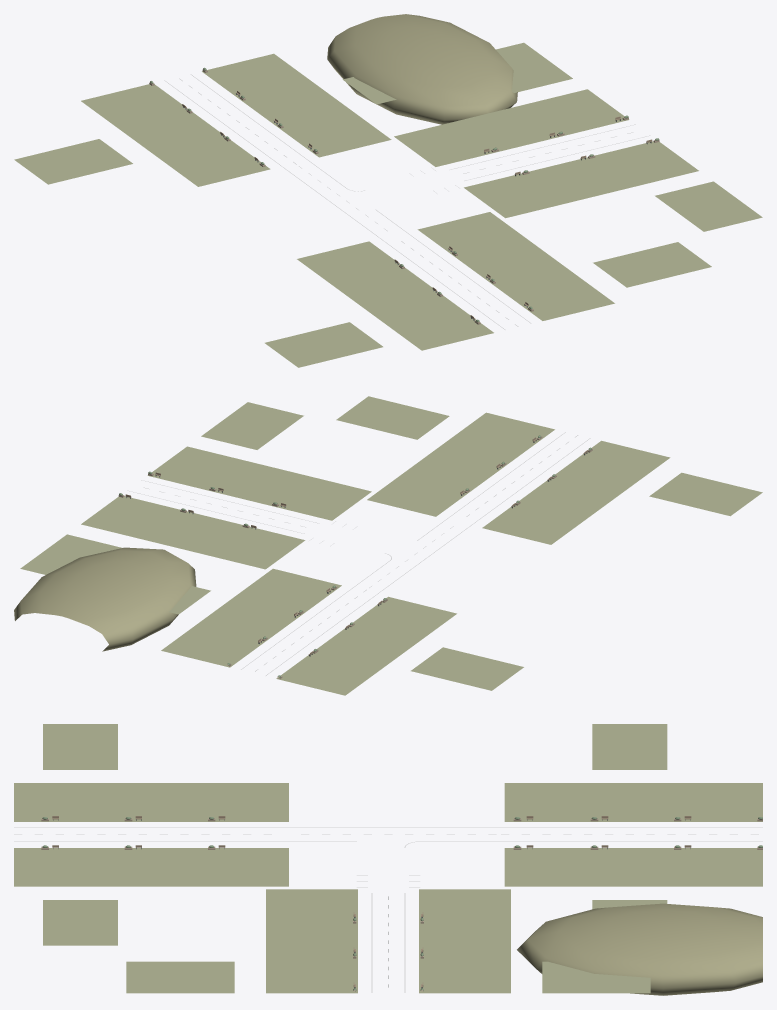
The picture shows the model from 3 angles, top to bottom: view 1: azimuth 30°, elevation 25°; view 2: azimuth 150°, elevation 25°; view 3: azimuth 270°, elevation 25°; orthographic projection. The views are drawn at different scales.
Visible parts, largest first — view 1: static; view 2: static; view 3: static.
Part boxes in pixels (<box>): static: <box>14,14,762,367</box>; static: <box>14,396,762,695</box>; static: <box>14,724,762,995</box>.
Size of what is drawn, in the model's own units: 153 by 14.08 by 180.
